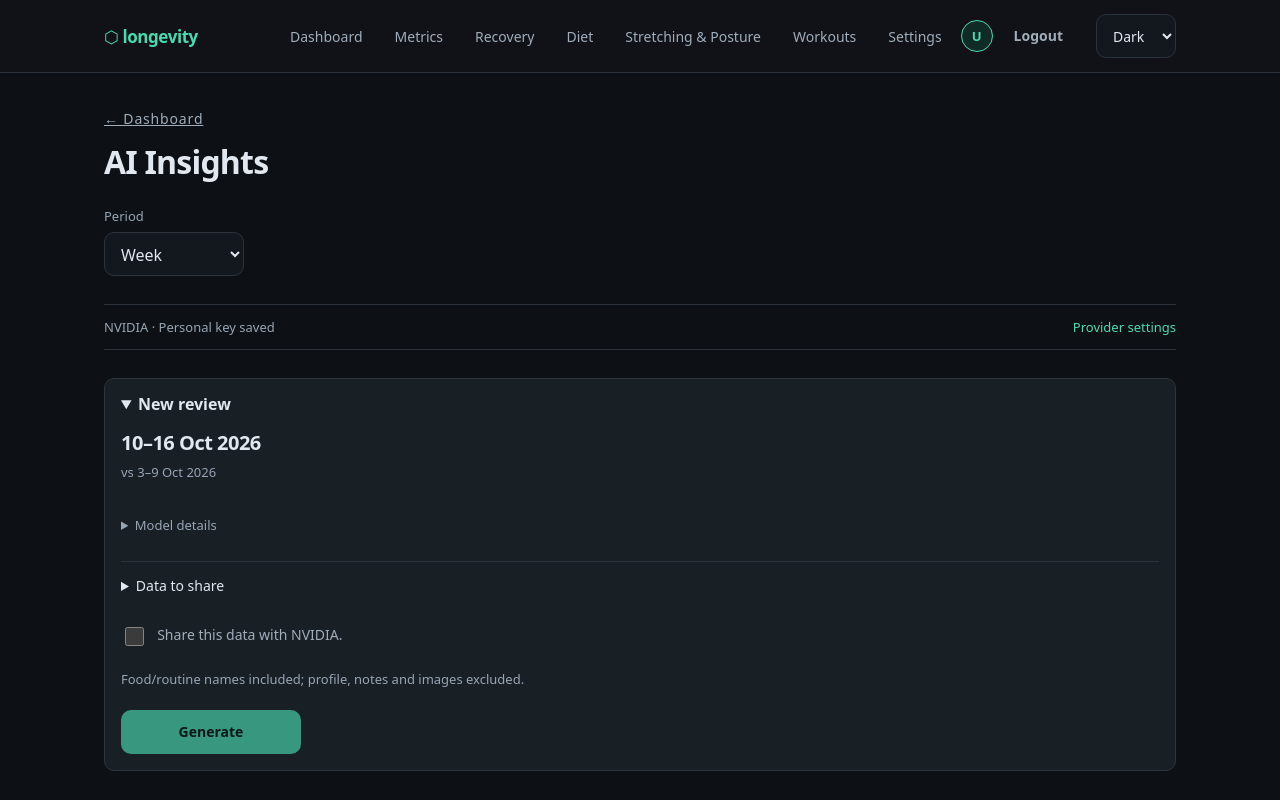
Test: Weekly AI insights › shows only suggestions from older comprehensive reviews, preserving the tracker table
Click the checkbox: point(135, 636) [125, 627, 144, 646]
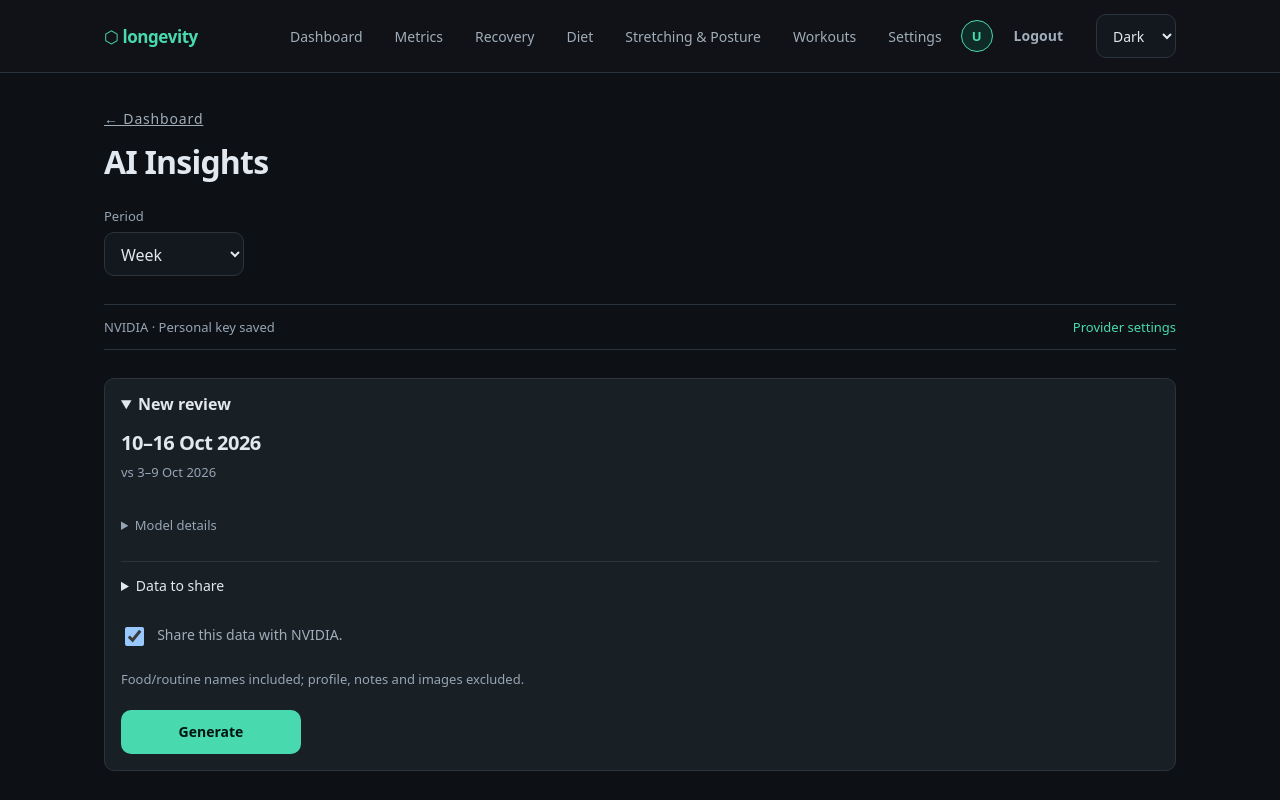
Click the button with aria-label "Generate suggestions": point(211, 732) [121, 710, 301, 754]
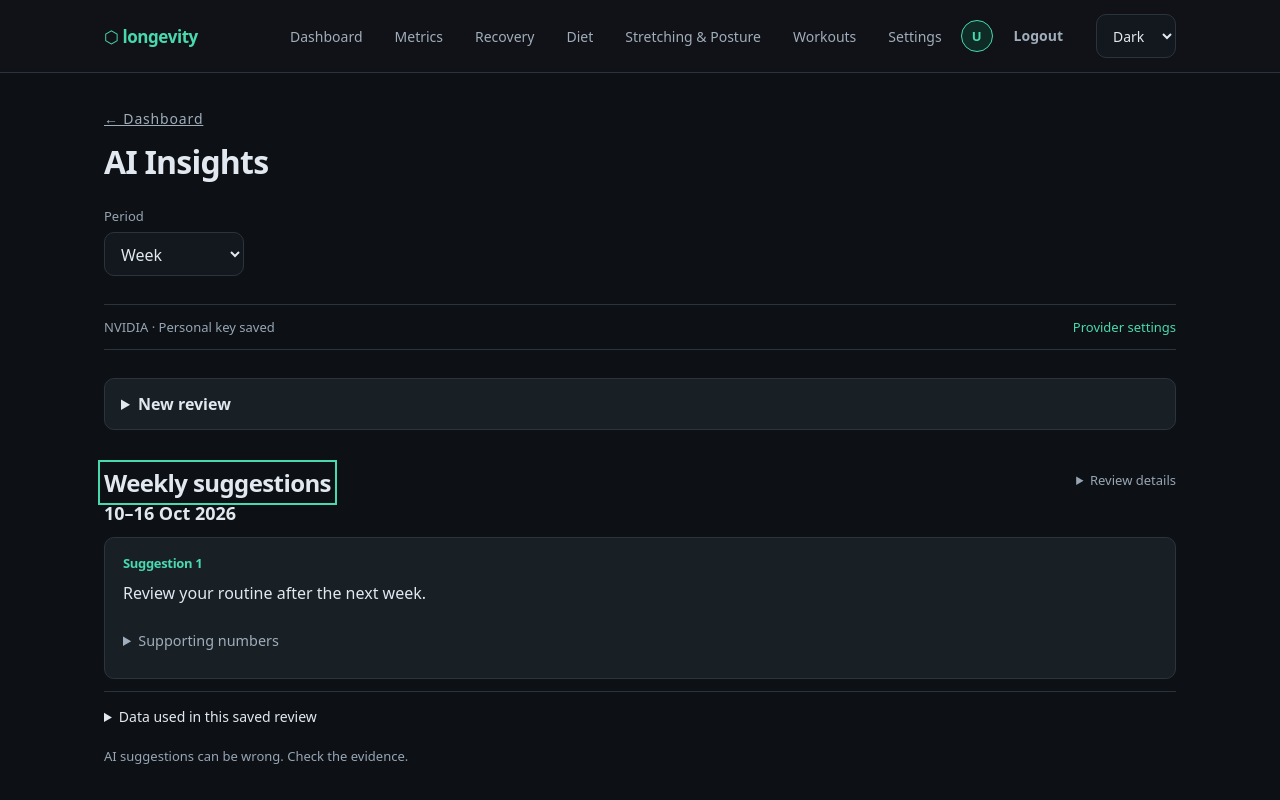
Expected: the text "Review your routine after the next week." is shown, [123, 582, 426, 604]
Expected: the heading "Data used in this saved review" is shown, [119, 707, 317, 726]
